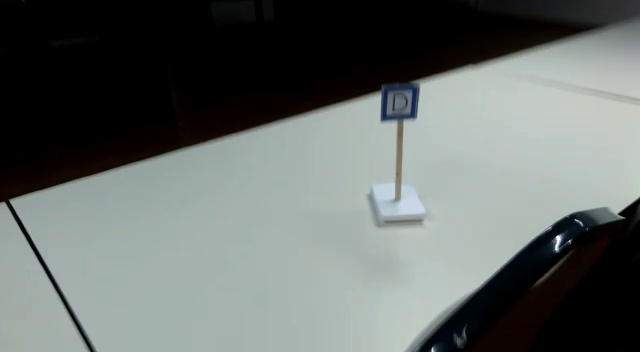durak: (380, 84, 418, 122)
